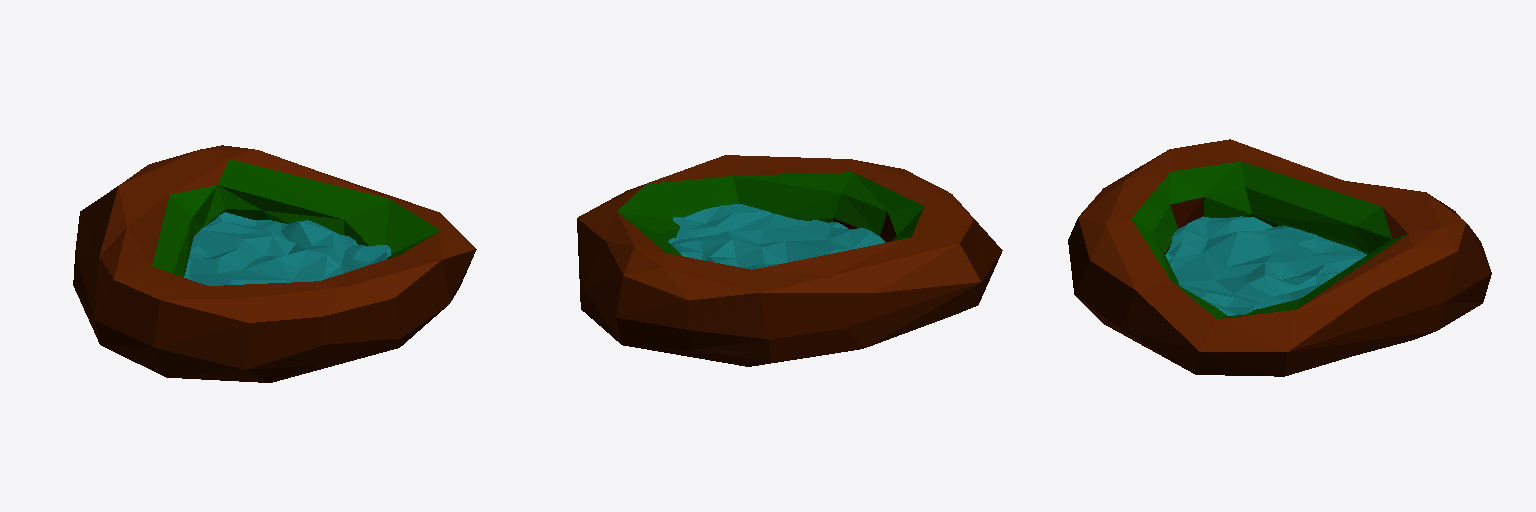
The model's file is Water.obj.
3 renders of one model, left to right at view 1: azimuth 30°, elevation 25°; view 2: azimuth 150°, elevation 25°; view 3: azimuth 270°, elevation 25°, orthographic.
Parts seen in each view (by area): view 1: Torus, Plane; view 2: Torus, Plane; view 3: Torus, Plane.
Boxes of the visible parts, x1,y1,x2,y2 form: Torus: [73, 145, 476, 382]; Plane: [184, 212, 391, 285]; Torus: [577, 155, 1002, 366]; Plane: [668, 204, 885, 269]; Torus: [1068, 139, 1491, 376]; Plane: [1165, 216, 1366, 315].
Bounding box in the file's own units: 11.46 × 2.42 × 11.23.